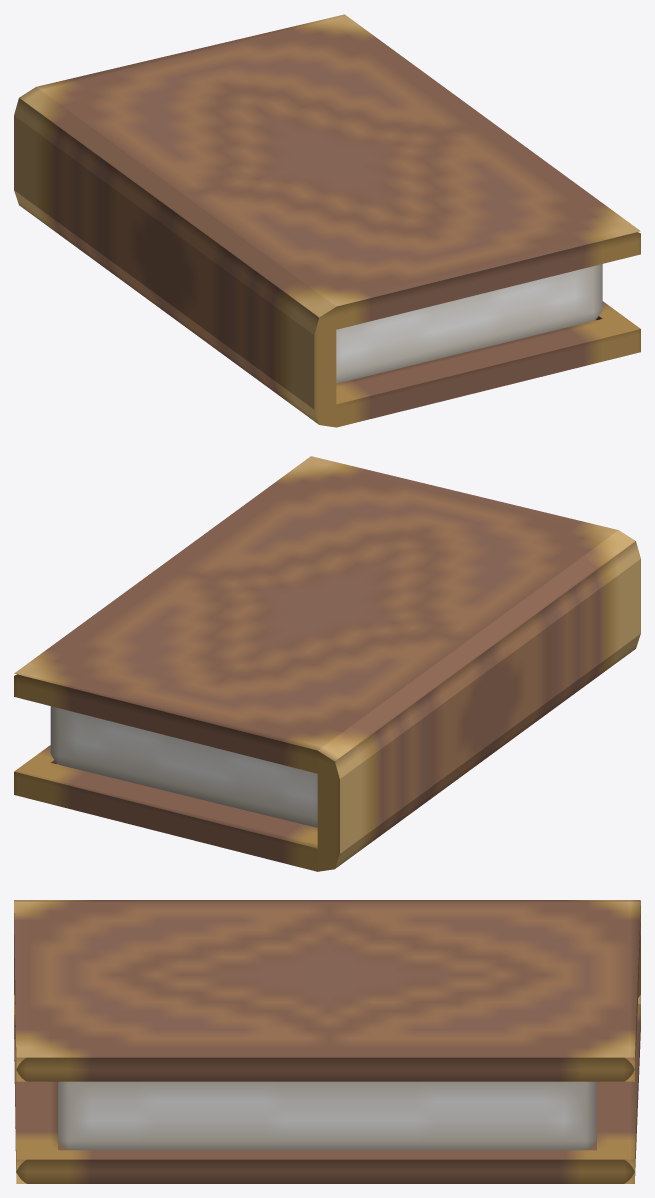
The model's file is book.fbx.
3 renders of one model, top to bottom at view 1: azimuth 30°, elevation 25°; view 2: azimuth 150°, elevation 25°; view 3: azimuth 270°, elevation 25°, orthographic. The views are drawn at different scales.
Visible parts, largest first — view 1: pCube1; view 2: pCube1; view 3: pCube1.
Boxes of the visible parts, x1,y1,x2,y2 form: pCube1: (14, 14, 640, 427); pCube1: (14, 456, 640, 871); pCube1: (14, 900, 640, 1183).
Size of the model in its own units: 115 by 40.54 by 182.
Materials: 1 (1 with a texture image).
